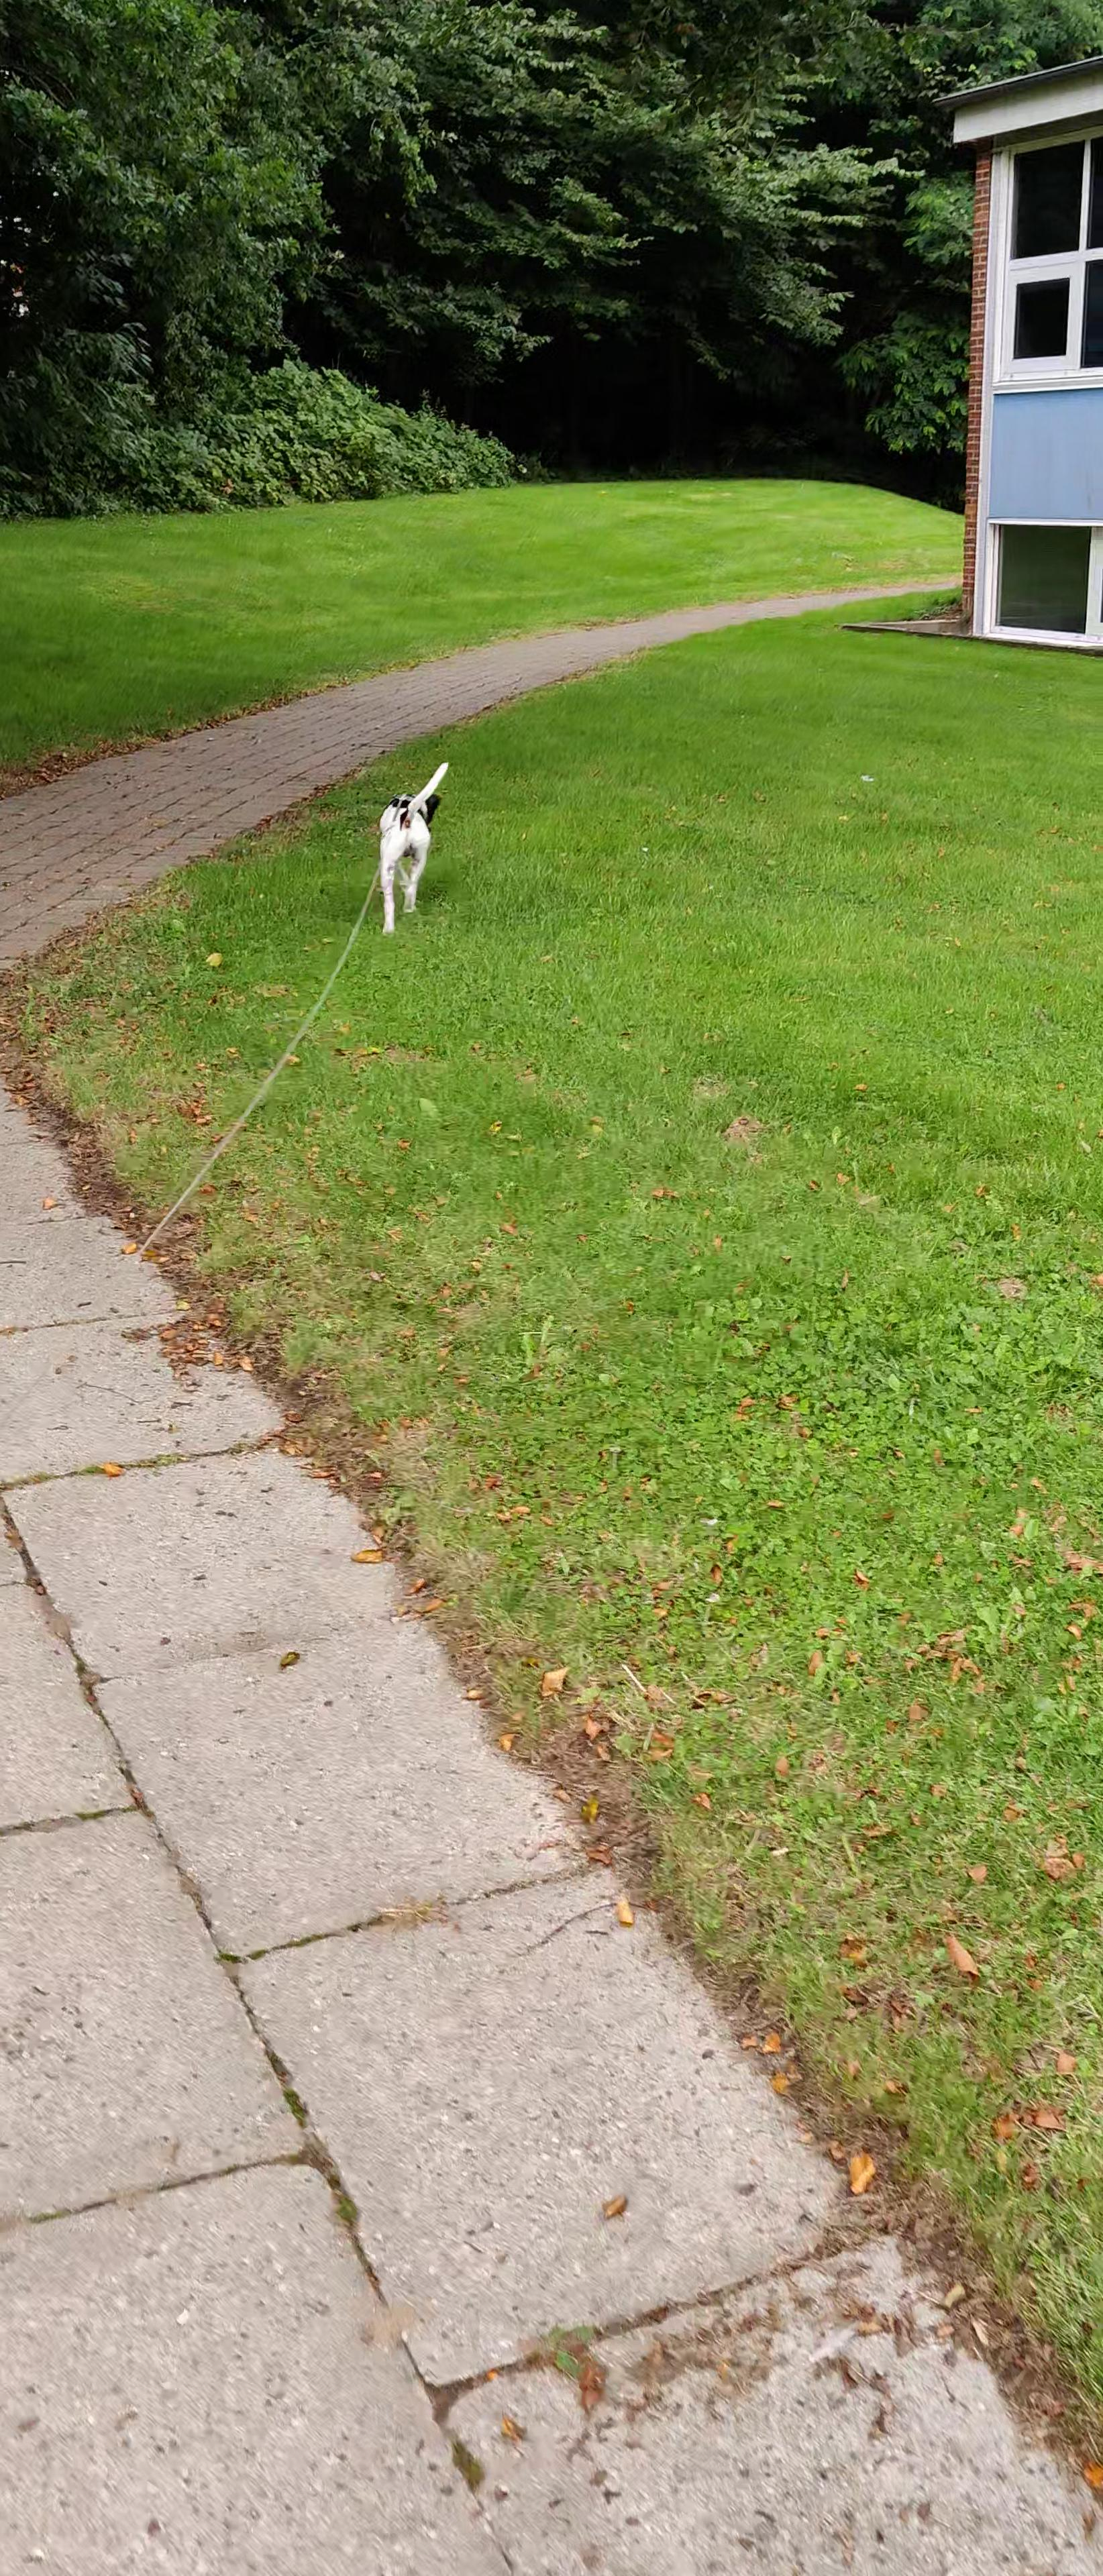Dog: (375, 757, 452, 936)
